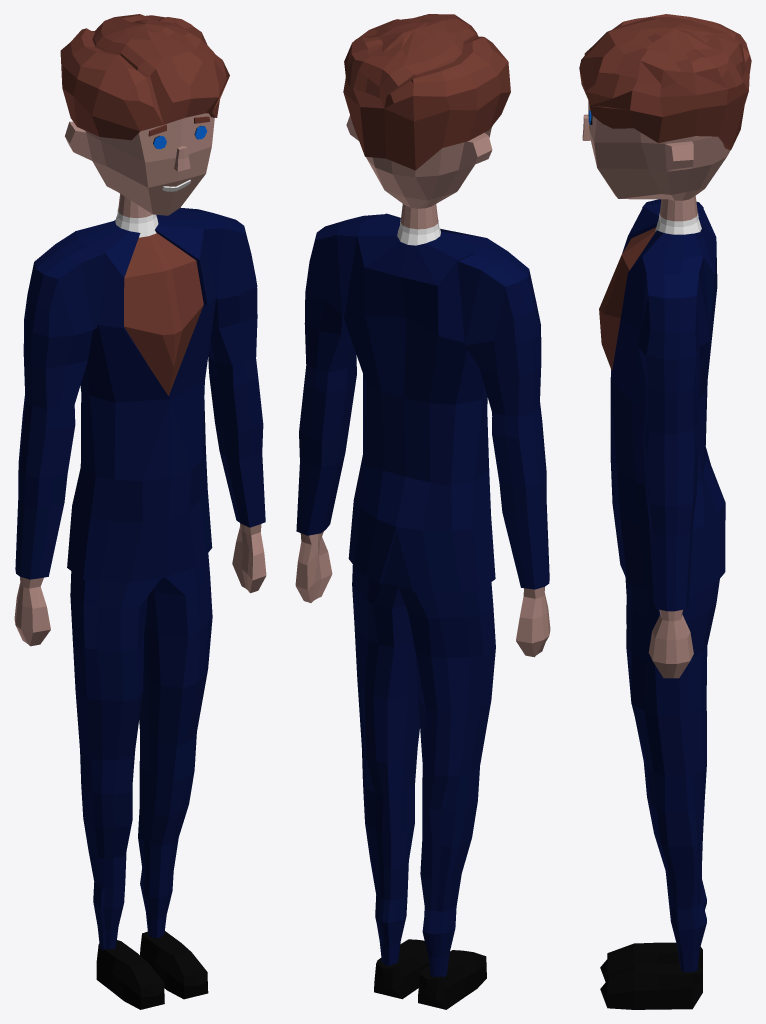
The model's file is arno.fbx.
3 renders of one model, left to right at view 1: azimuth 30°, elevation 25°; view 2: azimuth 150°, elevation 25°; view 3: azimuth 270°, elevation 25°, orthographic.
Visible parts, largest first — view 1: Cylinder.018, Cylinder.015; view 2: Cylinder.018, Cylinder.015; view 3: Cylinder.018, Cylinder.015.
Part boxes in pixels (box(x1,y1,x2,y2)): Cylinder.018: box(14, 14, 266, 1009); Cylinder.015: box(115, 209, 158, 237); Cylinder.018: box(295, 14, 550, 1009); Cylinder.015: box(397, 219, 440, 245); Cylinder.018: box(579, 14, 751, 1009); Cylinder.015: box(655, 213, 701, 234).
Bounding box in the file's own units: 47.25 × 176 × 28.39.
